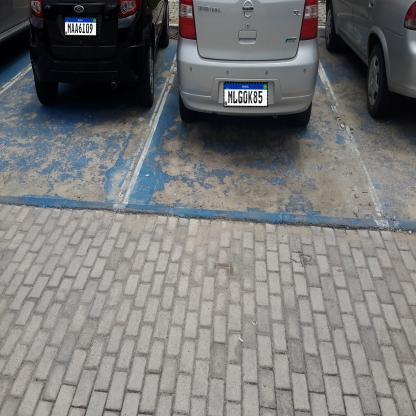PlacaM: (223, 82, 268, 107), (64, 17, 97, 36)
